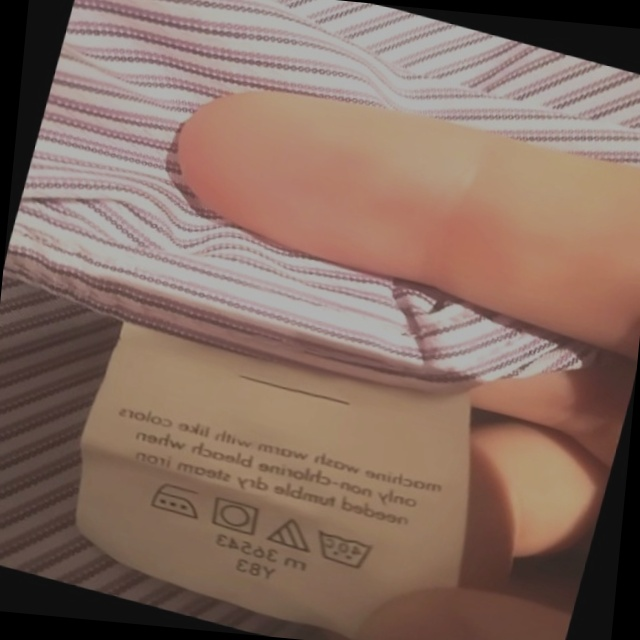40C: (307, 524, 378, 577)
iron_high: (142, 474, 206, 524)
non_chlorine_bleach: (263, 511, 318, 558)
tumble_dry_normal: (203, 493, 264, 540)
